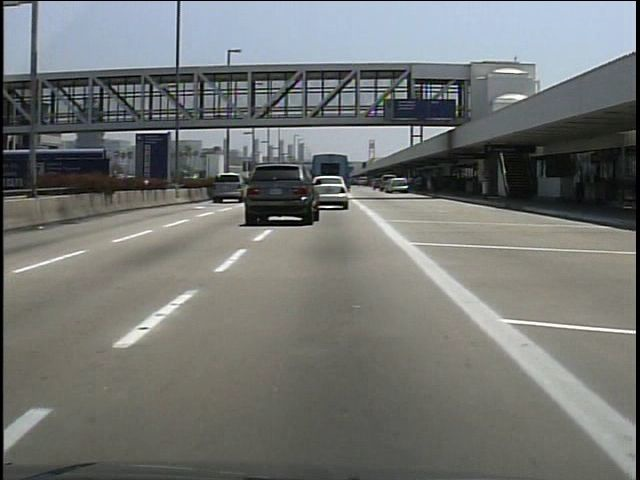person: (567, 165, 587, 209)
